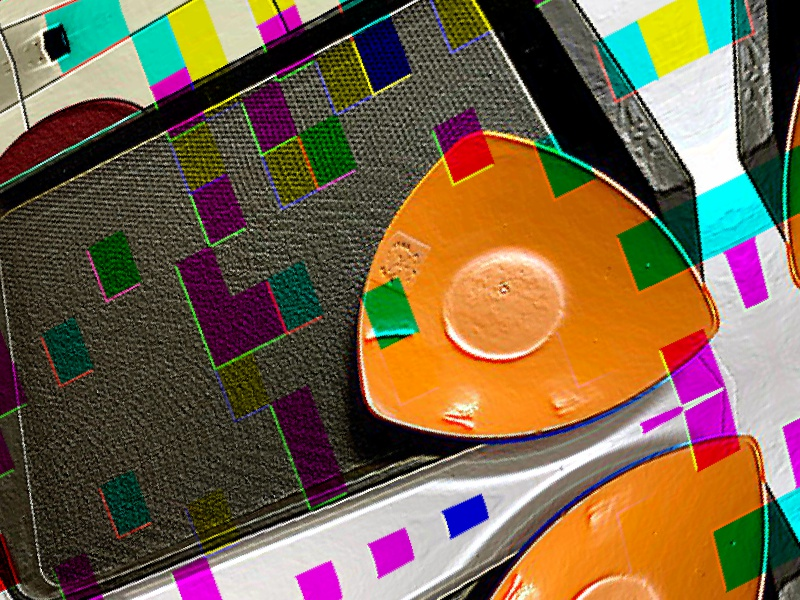dish11: (286, 52, 740, 519)
